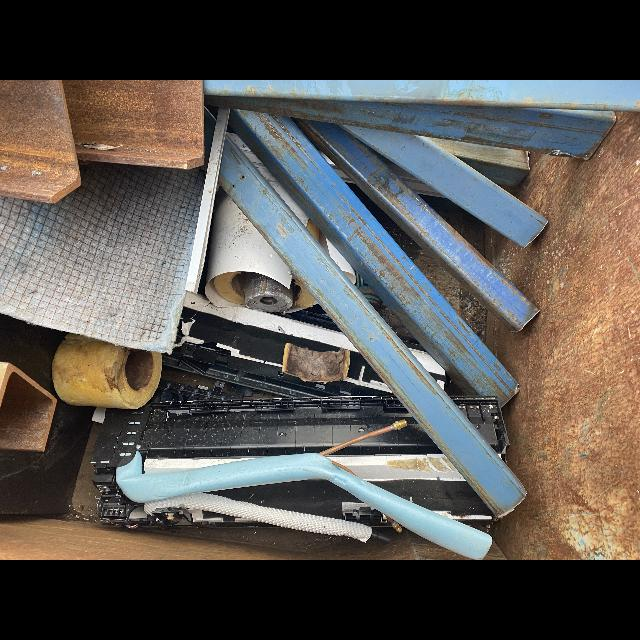Brass: (393, 419, 407, 430), (393, 522, 402, 532)
Copper: (318, 425, 394, 456), (330, 461, 357, 476), (384, 514, 394, 523)
Ferrous Metal: (217, 133, 528, 517), (229, 107, 519, 404), (292, 118, 540, 332), (202, 80, 640, 160), (337, 123, 548, 249), (62, 80, 204, 169), (0, 80, 80, 202), (0, 362, 57, 452)
